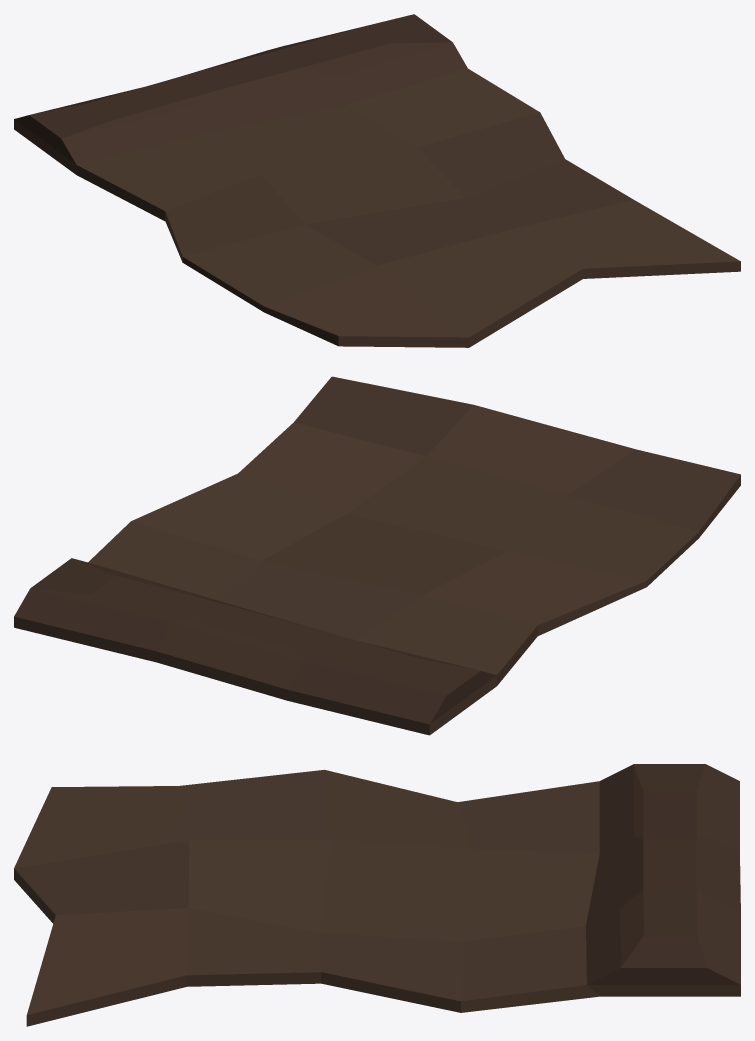
File: Flooring_01.gltf
3 views of the same model, one above another, from view 1: azimuth 30°, elevation 25°; view 2: azimuth 150°, elevation 25°; view 3: azimuth 270°, elevation 25° (orthographic). The views are drawn at different scales.
Visible parts, largest first — view 1: flooring; view 2: flooring; view 3: flooring.
Part boxes in pixels (x1,y1,x2,y2): flooring: [14, 14, 740, 347]; flooring: [14, 376, 740, 735]; flooring: [14, 764, 740, 1026].
Bounding box in the file's own units: 0.6861 × 0.0761 × 0.9054.
1 material, 1 textured.
